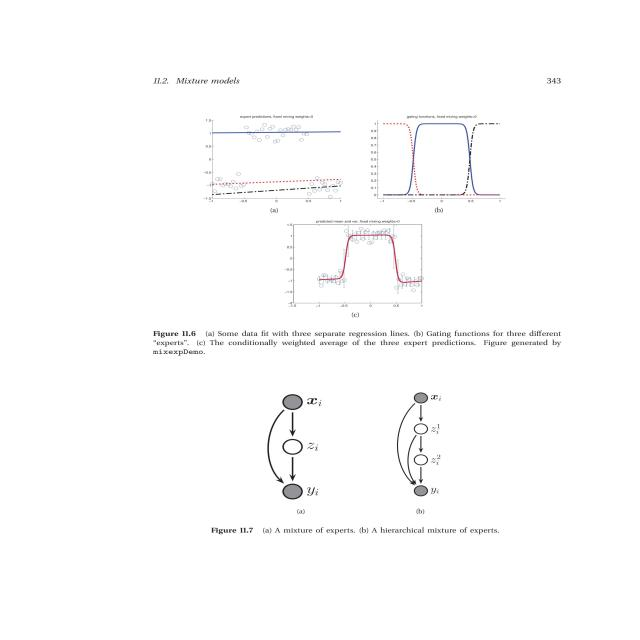diagram: (148, 65, 567, 540)
